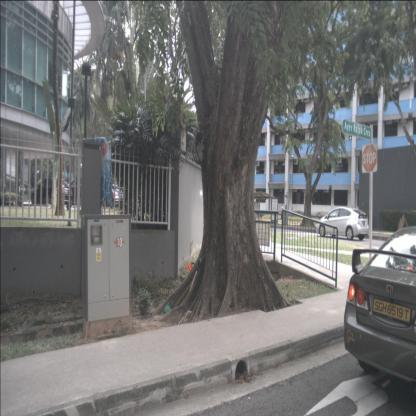human-pedestrian-adult: (280, 204, 284, 219)
vehicle-car: (343, 224, 416, 382), (316, 206, 370, 240), (31, 176, 72, 204), (64, 176, 101, 207), (94, 184, 126, 207)
